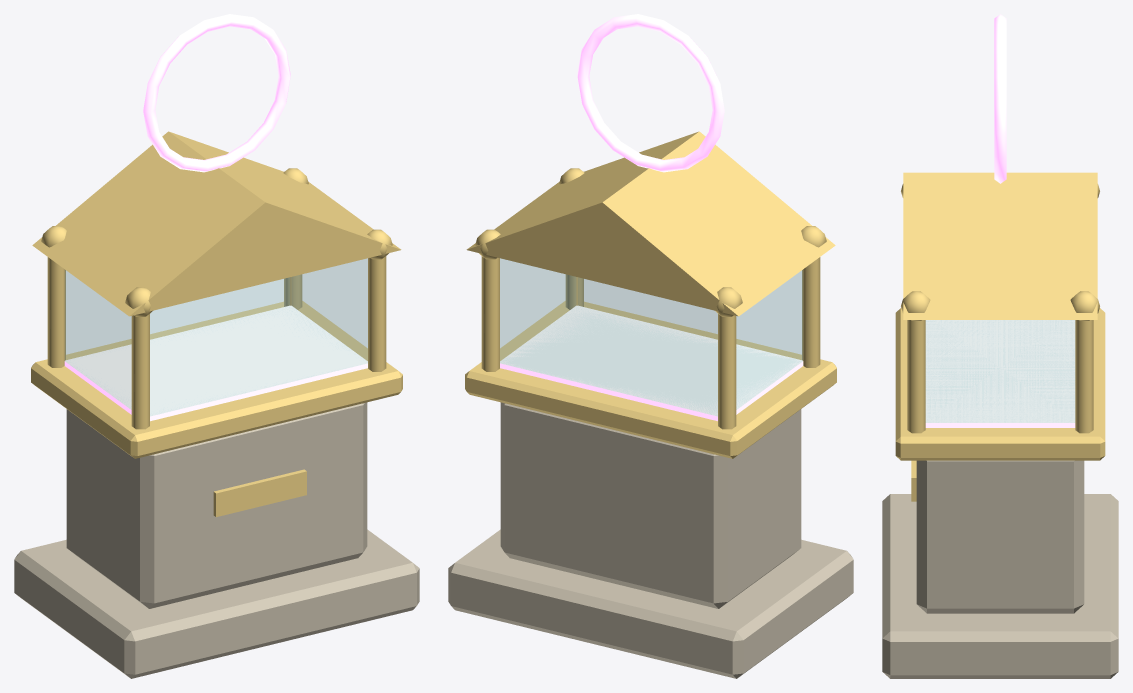
Rendered from lt_reliquary.glb.
The picture shows the model from 3 angles, left to right: view 1: azimuth 30°, elevation 25°; view 2: azimuth 150°, elevation 25°; view 3: azimuth 270°, elevation 25°; orthographic projection.
Parts seen in each view (by area): view 1: lt_reliquary; view 2: lt_reliquary; view 3: lt_reliquary.
Boxes of the visible parts, x1,y1,x2,y2 form: lt_reliquary: (14, 14, 419, 678); lt_reliquary: (448, 14, 853, 678); lt_reliquary: (882, 14, 1118, 678).
Bounding box in the file's own units: 1.3 × 2.47 × 0.9.
